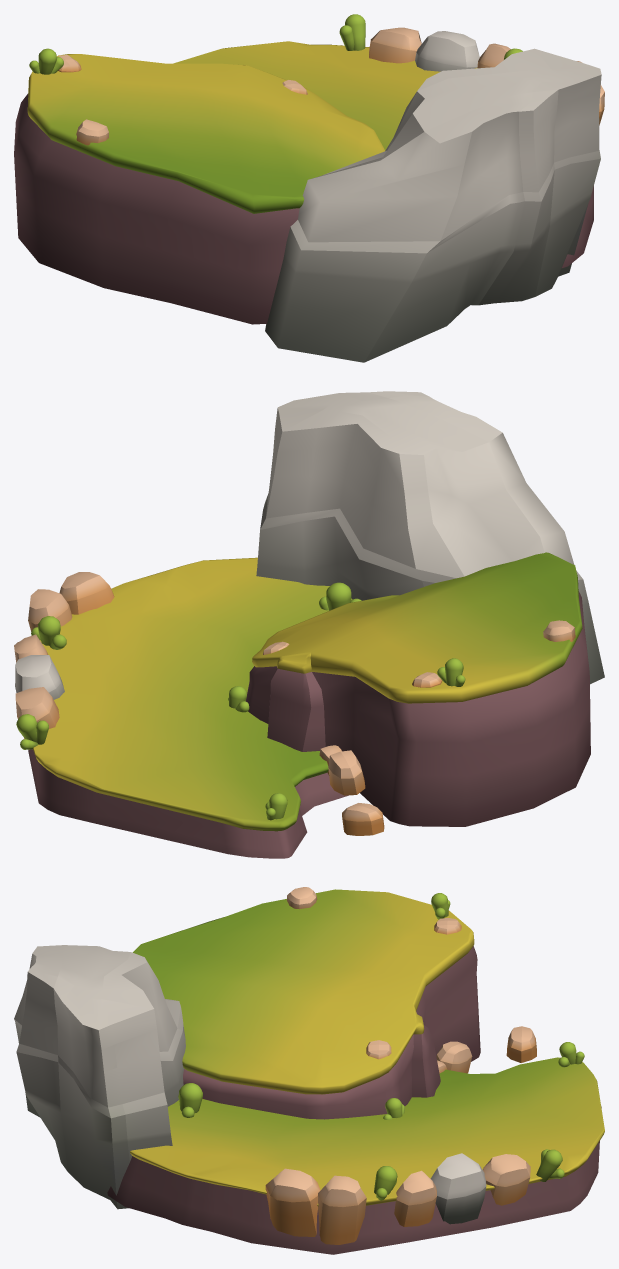
File: Mountains.fbx
3 views of the same model, one above another, from view 1: azimuth 30°, elevation 25°; view 2: azimuth 150°, elevation 25°; view 3: azimuth 270°, elevation 25° (orthographic). The views are drawn at different scales.
Visible parts, largest first — view 1: Mountain1; view 2: Mountain1; view 3: Mountain1.
Part boxes in pixels (x1,y1,x2,y2): Mountain1: [14, 14, 604, 362]; Mountain1: [14, 391, 604, 858]; Mountain1: [14, 887, 604, 1254].
Size of the model in its own units: 22.5 by 8.79 by 23.07.
